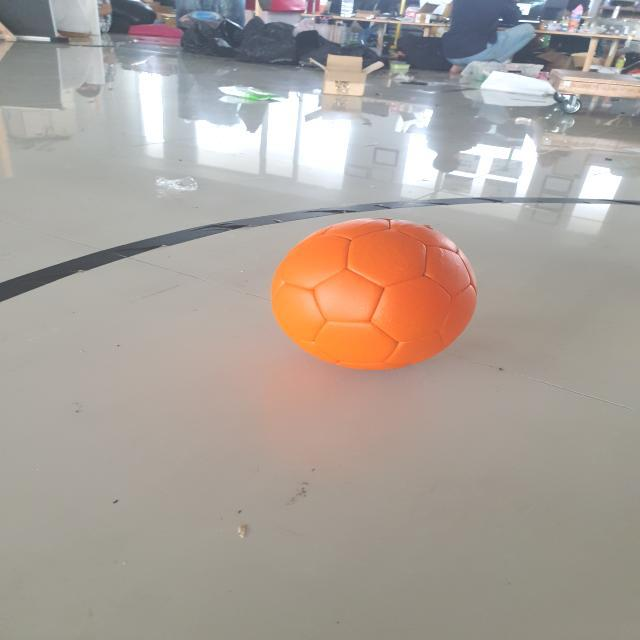bola: (252, 209, 496, 378)
